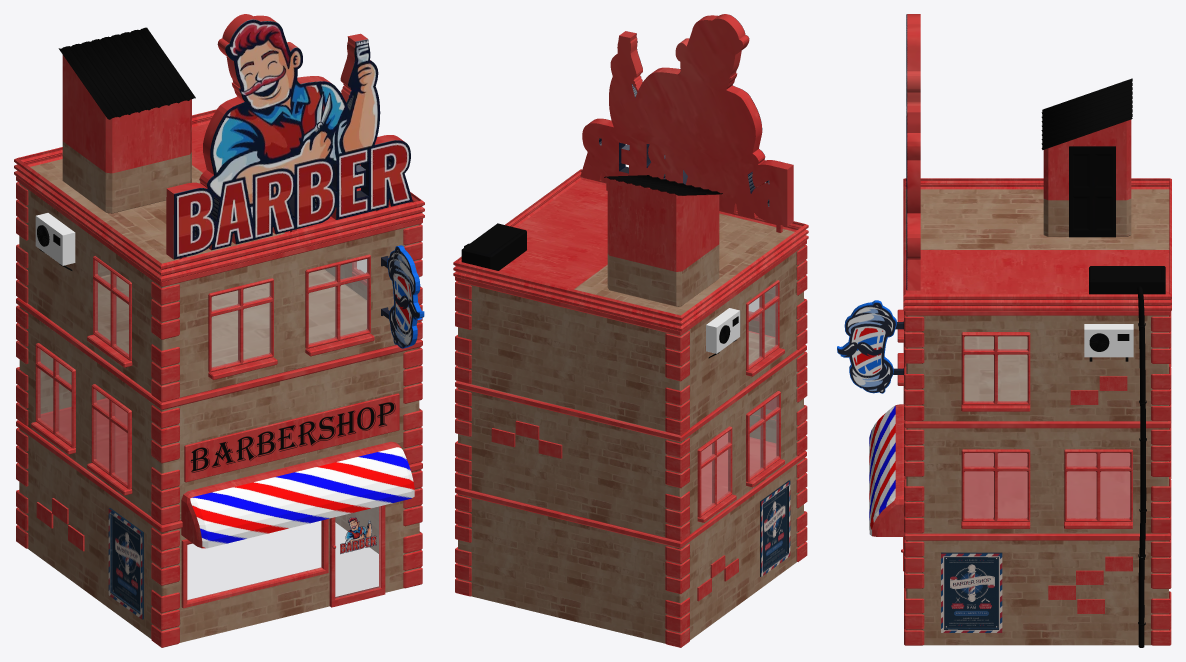
Rendered from shop.glb.
3 views of the same model, side by side, from view 1: azimuth 30°, elevation 25°; view 2: azimuth 150°, elevation 25°; view 3: azimuth 270°, elevation 25° (orthographic). The views are drawn at different scales.
Visible parts, largest first — view 1: Shop Base_Building Trim Sheet_0, Cube.001_Barber Roof Sign_0, Door_Glass Real_0, Plane.001_Poster_0, Plane_Barber Sign_0, Cube.004_Barber shop Sign_0; view 2: Shop Base_Building Trim Sheet_0, Door_Glass Real_0, Plane.001_Poster_0, Cube.001_Barber Roof Sign_0; view 3: Shop Base_Building Trim Sheet_0, Door_Glass Real_0, Plane.001_Poster_0, Plane_Barber Sign_0, Cube.001_Barber Roof Sign_0.
Part boxes in pixels (left/top/right/bottom): Shop Base_Building Trim Sheet_0: left=14, top=14, right=424, bottom=647; Cube.001_Barber Roof Sign_0: left=173, top=19, right=412, bottom=554; Door_Glass Real_0: left=38, top=259, right=380, bottom=599; Plane.001_Poster_0: left=108, top=508, right=143, bottom=619; Plane_Barber Sign_0: left=381, top=245, right=424, bottom=348; Cube.004_Barber shop Sign_0: left=190, top=402, right=395, bottom=472; Shop Base_Building Trim Sheet_0: left=453, top=14, right=808, bottom=647; Door_Glass Real_0: left=701, top=284, right=778, bottom=512; Plane.001_Poster_0: left=760, top=480, right=790, bottom=576; Cube.001_Barber Roof Sign_0: left=599, top=15, right=769, bottom=206; Shop Base_Building Trim Sheet_0: left=869, top=14, right=1171, bottom=647; Door_Glass Real_0: left=964, top=336, right=1129, bottom=518; Plane.001_Poster_0: left=941, top=552, right=1002, bottom=632; Plane_Barber Sign_0: left=837, top=300, right=903, bottom=393; Cube.001_Barber Roof Sign_0: left=906, top=14, right=907, bottom=290.
Bounding box in the file's own units: 5.92 × 11.98 × 6.55.
6 materials, 5 textured.
